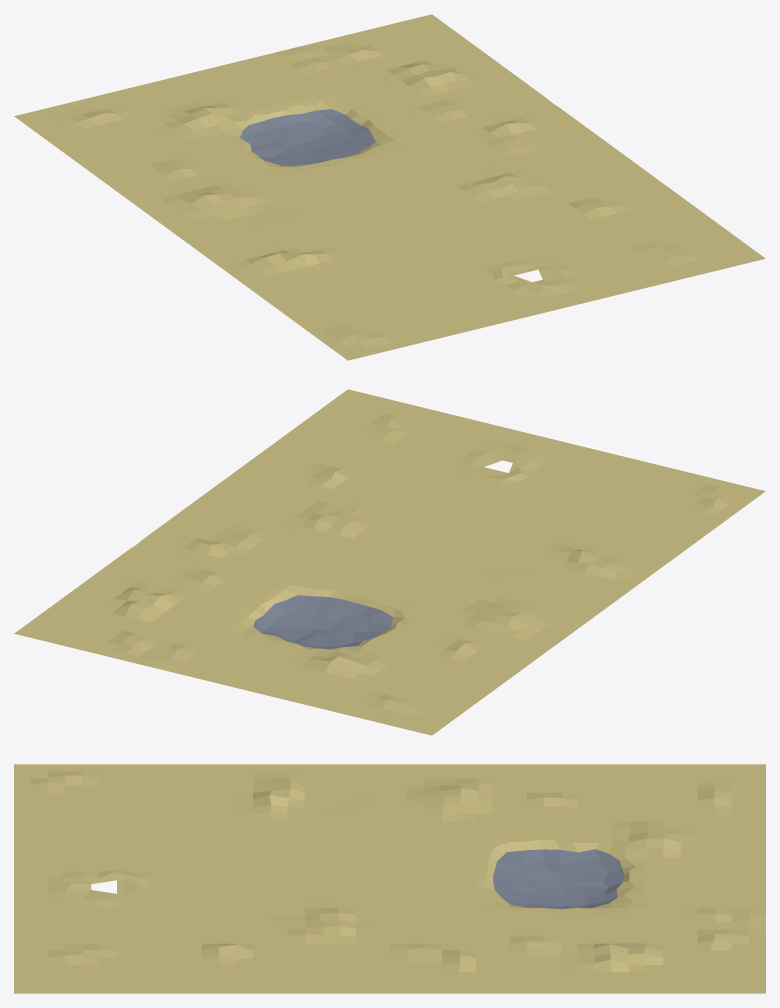
Rendered from Land_low.fbx.
3 views of the same model, one above another, from view 1: azimuth 30°, elevation 25°; view 2: azimuth 150°, elevation 25°; view 3: azimuth 270°, elevation 25° (orthographic). The views are drawn at different scales.
Parts seen in each view (by area): view 1: Land_low; view 2: Land_low; view 3: Land_low.
Boxes of the visible parts, x1,y1,x2,y2 form: Land_low: (14,14,765,360); Land_low: (14,389,765,735); Land_low: (14,764,765,993).
Size of the model in its own units: 80 by 3.04 by 111.
